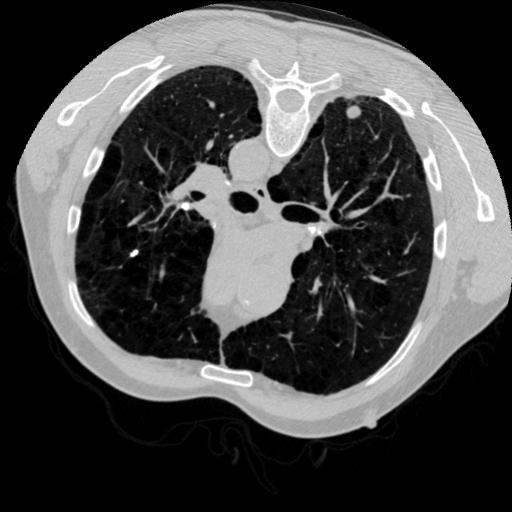nodule: (129, 248, 142, 261)
